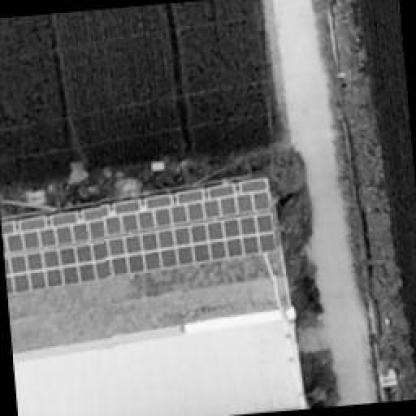solar-pv-panel: (0, 176, 276, 294)
